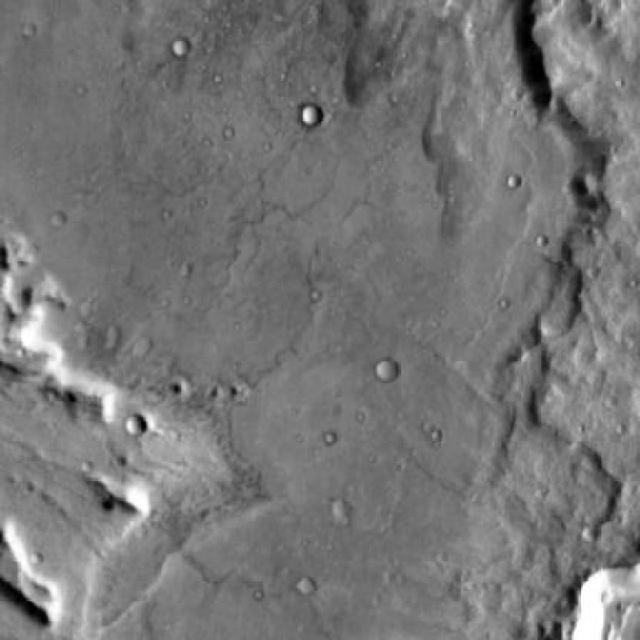crater: (0, 0, 557, 429), (374, 356, 397, 379), (301, 105, 324, 128), (330, 502, 350, 521), (128, 416, 147, 435), (298, 577, 316, 595), (174, 37, 192, 54), (52, 210, 68, 225)
